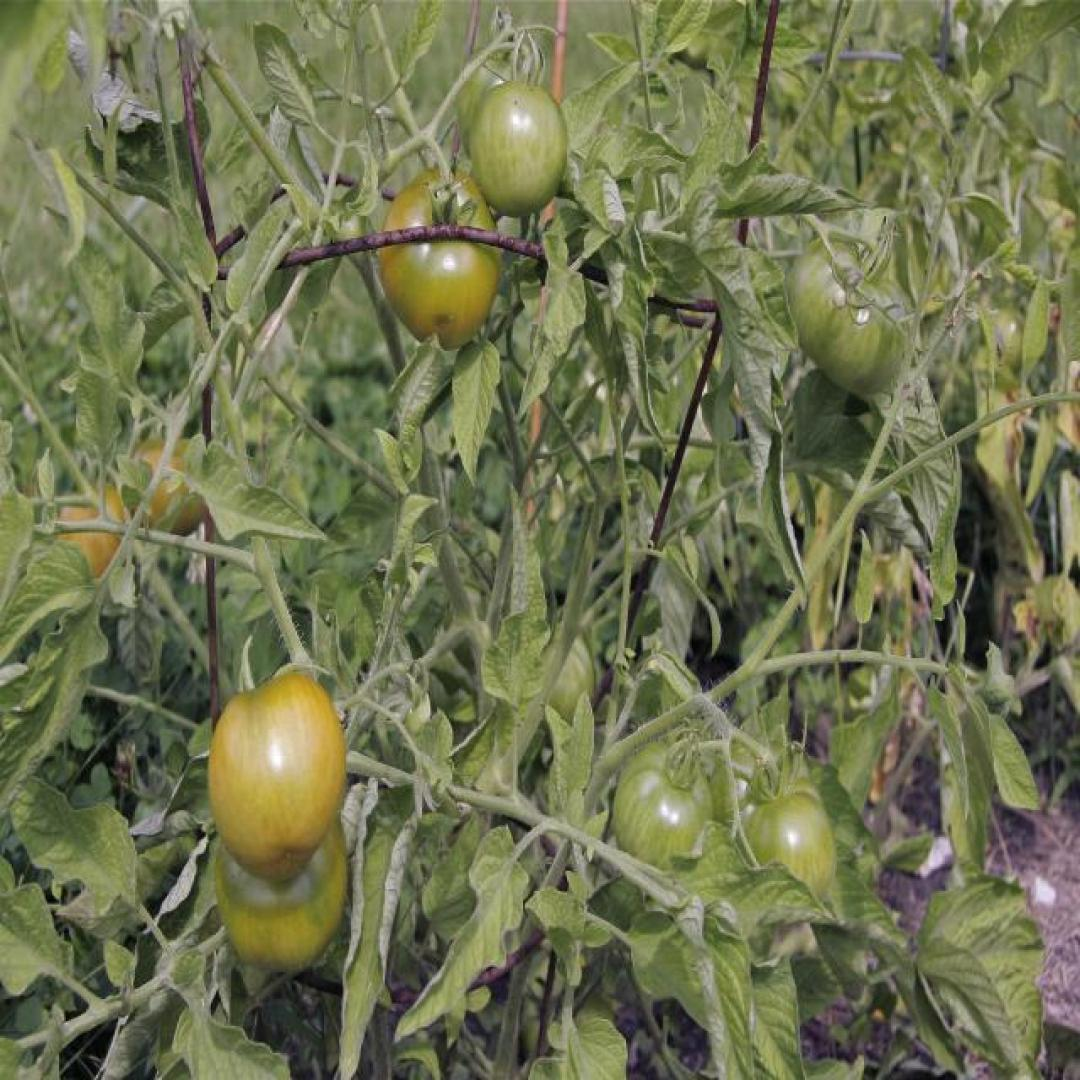mentah: (786, 231, 912, 398), (612, 738, 716, 893), (469, 78, 570, 216)
setengah_matang: (204, 675, 348, 883), (376, 165, 503, 353)
